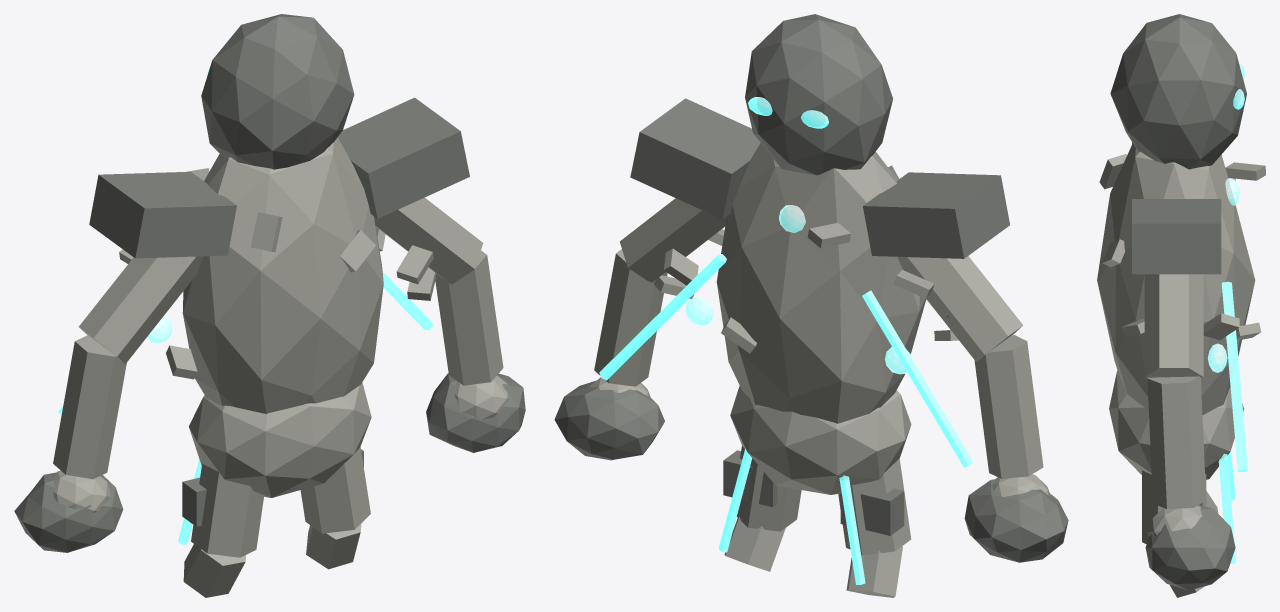
The model's file is boss_01_ascendant_colossus.glb.
3 renders of one model, left to right at view 1: azimuth 30°, elevation 25°; view 2: azimuth 150°, elevation 25°; view 3: azimuth 270°, elevation 25°, orthographic. The views are drawn at different scales.
Parts seen in each view (by area): view 1: ascendant_colossus_phase1_stone_torso, ascendant_colossus_phase1_stone_head, ascendant_colossus_phase1_stone_pelvis, ascendant_colossus_phase1_shoulder_armor_-1, ascendant_colossus_phase1_shoulder_armor_1, ascendant_colossus_phase1_stone_forearm_-1, ascendant_colossus_phase1_stone_upper_arm_-1, ascendant_colossus_phase1_stone_forearm_1, ascendant_colossus_massive_fist_-1, ascendant_colossus_phase1_stone_upper_arm_1, ascendant_colossus_phase1_stone_thigh_-1, ascendant_colossus_massive_fist_1 (+11 smaller); view 2: ascendant_colossus_phase1_stone_torso, ascendant_colossus_phase1_stone_head, ascendant_colossus_phase1_stone_pelvis, ascendant_colossus_phase1_shoulder_armor_-1, ascendant_colossus_phase1_shoulder_armor_1, ascendant_colossus_phase1_stone_forearm_-1, ascendant_colossus_phase1_stone_upper_arm_-1, ascendant_colossus_massive_fist_1, ascendant_colossus_massive_fist_-1, ascendant_colossus_phase1_stone_forearm_1, ascendant_colossus_phase1_stone_upper_arm_1, ascendant_colossus_phase1_stone_thigh_-1 (+13 smaller); view 3: ascendant_colossus_phase1_stone_head, ascendant_colossus_phase1_stone_torso, ascendant_colossus_phase1_stone_forearm_1, ascendant_colossus_phase1_shoulder_armor_1, ascendant_colossus_phase1_stone_upper_arm_1, ascendant_colossus_massive_fist_1, ascendant_colossus_phase1_stone_pelvis, ascendant_colossus_phase2_lightning_arm_arc_1, ascendant_colossus_phase1_stone_hand_1, ascendant_colossus_phase1_stone_thigh_1, ascendant_colossus_phase2_lightning_leg_arc_1, ascendant_colossus_floating_broken_shell_shard_9 (+7 smaller).
Boxes of the visible parts, x1,y1,x2,y2 form: ascendant_colossus_phase1_stone_torso: (182, 137, 383, 413); ascendant_colossus_phase1_stone_head: (201, 14, 354, 169); ascendant_colossus_phase1_stone_pelvis: (189, 382, 371, 497); ascendant_colossus_phase1_shoulder_armor_-1: (89, 171, 236, 258); ascendant_colossus_phase1_shoulder_armor_1: (338, 97, 469, 218); ascendant_colossus_phase1_stone_forearm_-1: (53, 335, 126, 479); ascendant_colossus_phase1_stone_upper_arm_-1: (79, 256, 203, 363); ascendant_colossus_phase1_stone_forearm_1: (435, 250, 503, 385); ascendant_colossus_massive_fist_-1: (14, 472, 123, 552); ascendant_colossus_phase1_stone_upper_arm_1: (374, 197, 483, 284); ascendant_colossus_phase1_stone_thigh_-1: (191, 463, 263, 557); ascendant_colossus_massive_fist_1: (426, 373, 525, 452); ascendant_colossus_phase1_stone_torso: (716, 143, 926, 423); ascendant_colossus_phase1_stone_head: (745, 14, 892, 175); ascendant_colossus_phase1_stone_pelvis: (730, 385, 911, 494); ascendant_colossus_phase1_shoulder_armor_-1: (863, 172, 1009, 258); ascendant_colossus_phase1_shoulder_armor_1: (630, 98, 760, 219); ascendant_colossus_phase1_stone_forearm_-1: (974, 335, 1043, 478); ascendant_colossus_phase1_stone_upper_arm_-1: (897, 256, 1023, 361); ascendant_colossus_massive_fist_1: (554, 381, 664, 460); ascendant_colossus_massive_fist_-1: (964, 479, 1068, 562); ascendant_colossus_phase1_stone_forearm_1: (594, 249, 667, 386); ascendant_colossus_phase1_stone_upper_arm_1: (619, 198, 726, 282); ascendant_colossus_phase1_stone_thigh_-1: (838, 458, 911, 555); ascendant_colossus_phase1_stone_head: (1110, 14, 1246, 169); ascendant_colossus_phase1_stone_torso: (1097, 143, 1255, 414); ascendant_colossus_phase1_stone_forearm_1: (1147, 376, 1206, 508); ascendant_colossus_phase1_shoulder_armor_1: (1132, 199, 1221, 274); ascendant_colossus_phase1_stone_upper_arm_1: (1144, 274, 1203, 378); ascendant_colossus_massive_fist_1: (1145, 505, 1235, 590); ascendant_colossus_phase1_stone_pelvis: (1109, 370, 1244, 479); ascendant_colossus_phase2_lightning_arm_arc_1: (1221, 281, 1247, 471); ascendant_colossus_phase1_stone_hand_1: (1147, 506, 1202, 536); ascendant_colossus_phase1_stone_thigh_1: (1142, 470, 1206, 544); ascendant_colossus_phase2_lightning_leg_arc_1: (1218, 453, 1236, 563); ascendant_colossus_floating_broken_shell_shard_9: (1203, 313, 1239, 340).
Bounding box in the file's own units: 4.53 × 4.86 × 1.36.
